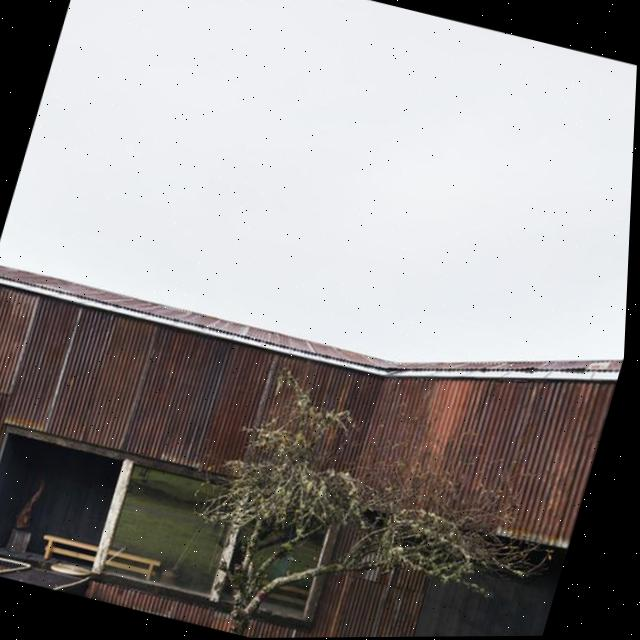building: (0, 247, 617, 640)
